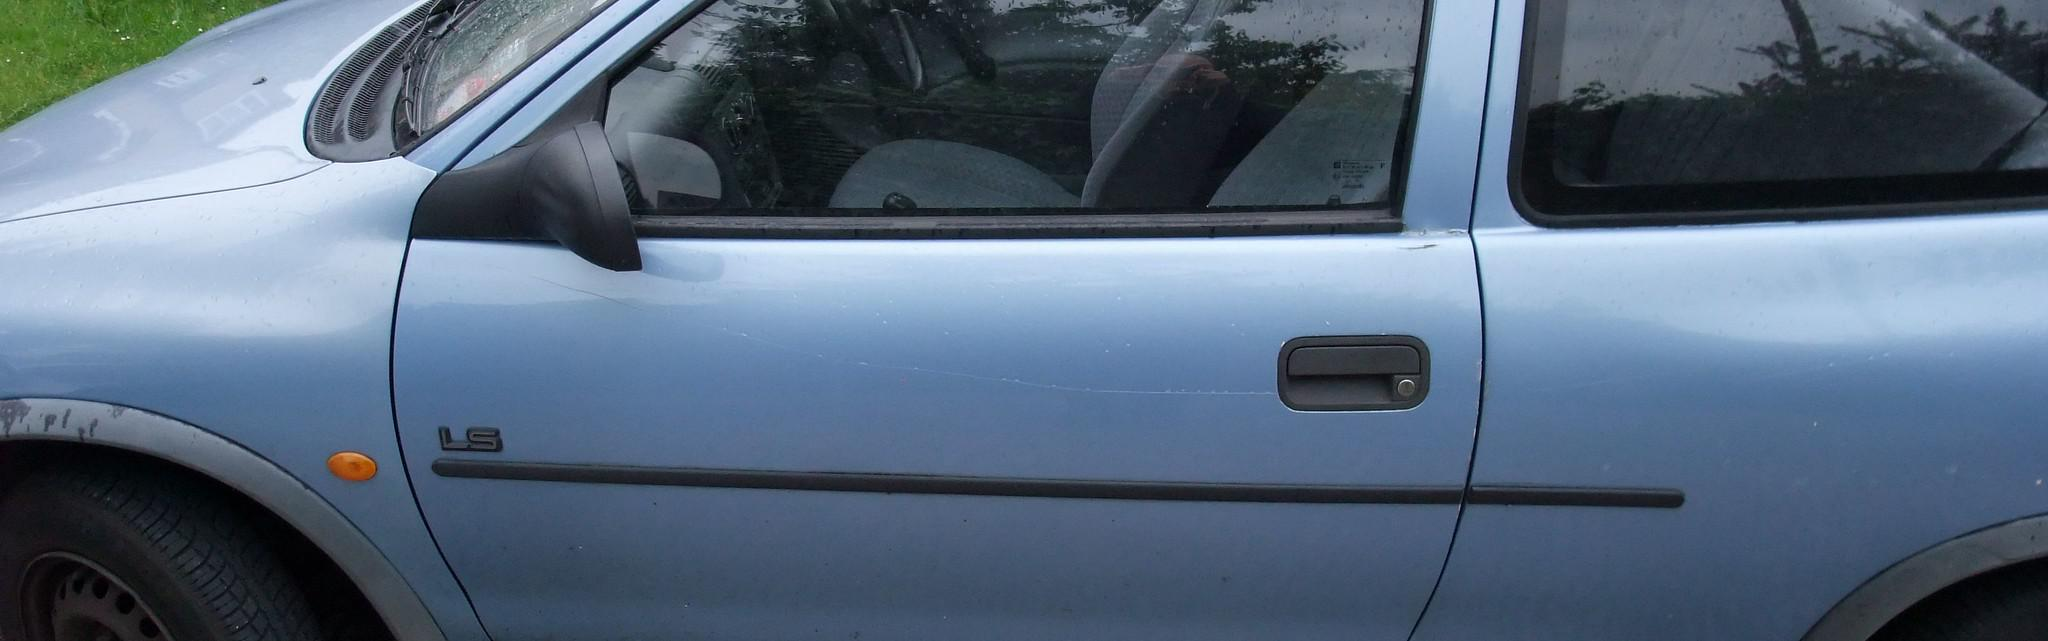bonnet-dent: (0, 0, 462, 202)
doorouter-dent: (387, 191, 1456, 640)
